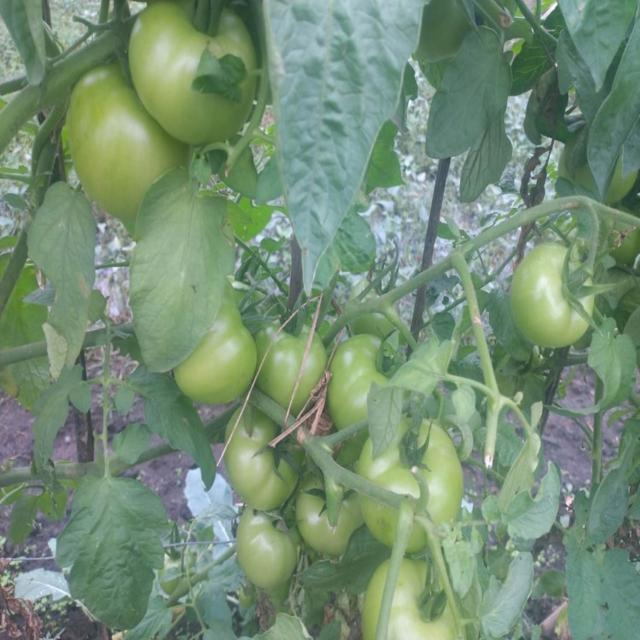tomato: (131, 1, 263, 148), (61, 77, 181, 221), (511, 239, 591, 352), (185, 303, 264, 410), (364, 423, 459, 503), (253, 316, 323, 416), (330, 330, 389, 426), (232, 426, 299, 503), (398, 556, 452, 640), (242, 506, 297, 584), (291, 471, 338, 550), (419, 4, 473, 66), (371, 496, 400, 544)
